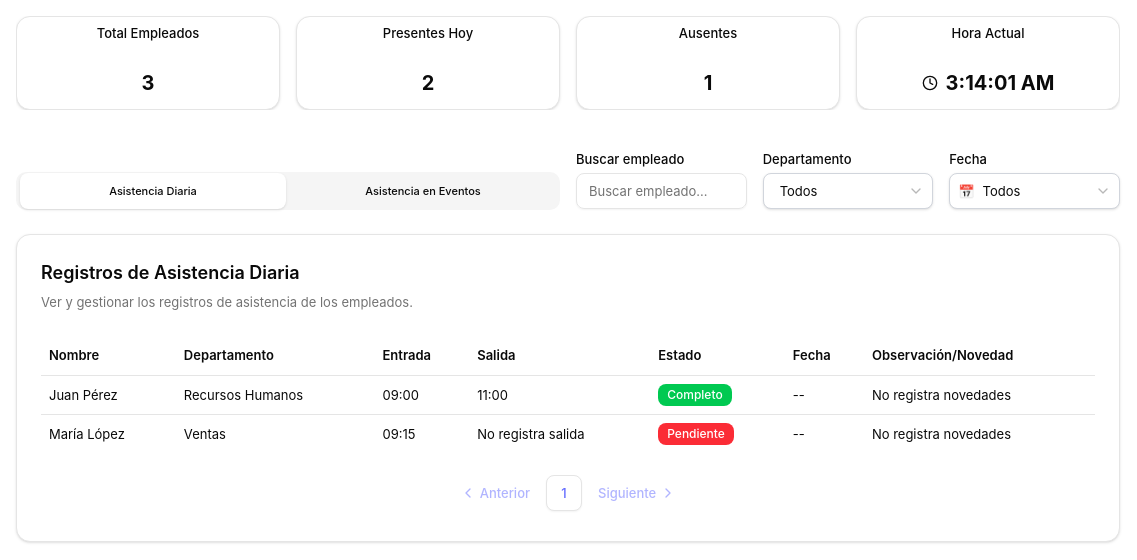
it: Componente de Asistencia › Muestra mensaje cuando no hay resultados en la búsqueda
# Buscar algo que no existe
In the field with placeholder "Buscar empleado...": {"x": 661, "y": 191} [576,173,747,209], type "XYZ123"
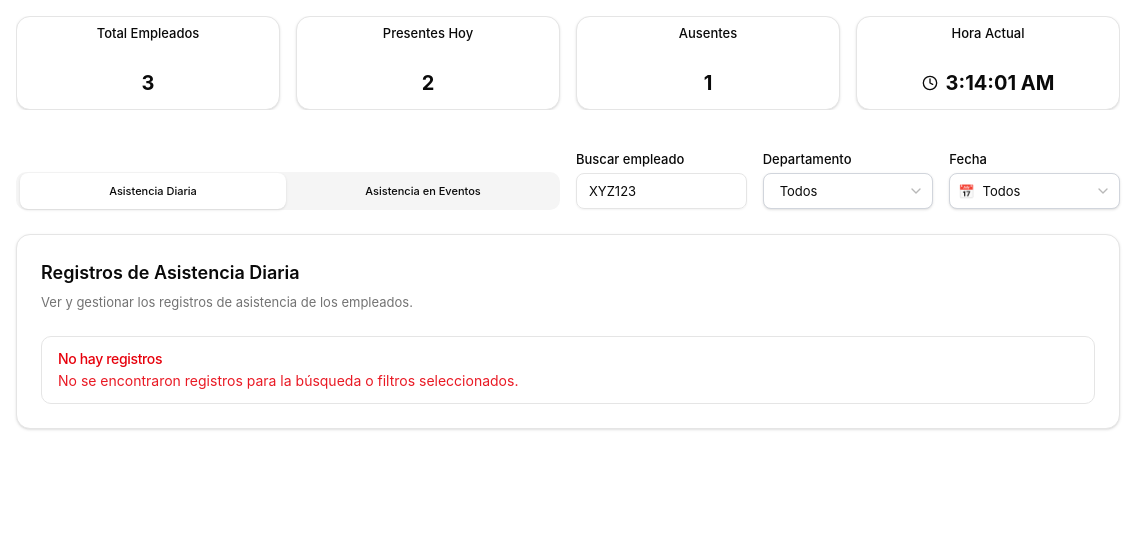
Now the text "No hay registros" is shown, box [58,350,162,367]
Now the text "No se encontraron registros para la búsqueda o filtros seleccionados." is shown, box [58,372,518,389]
